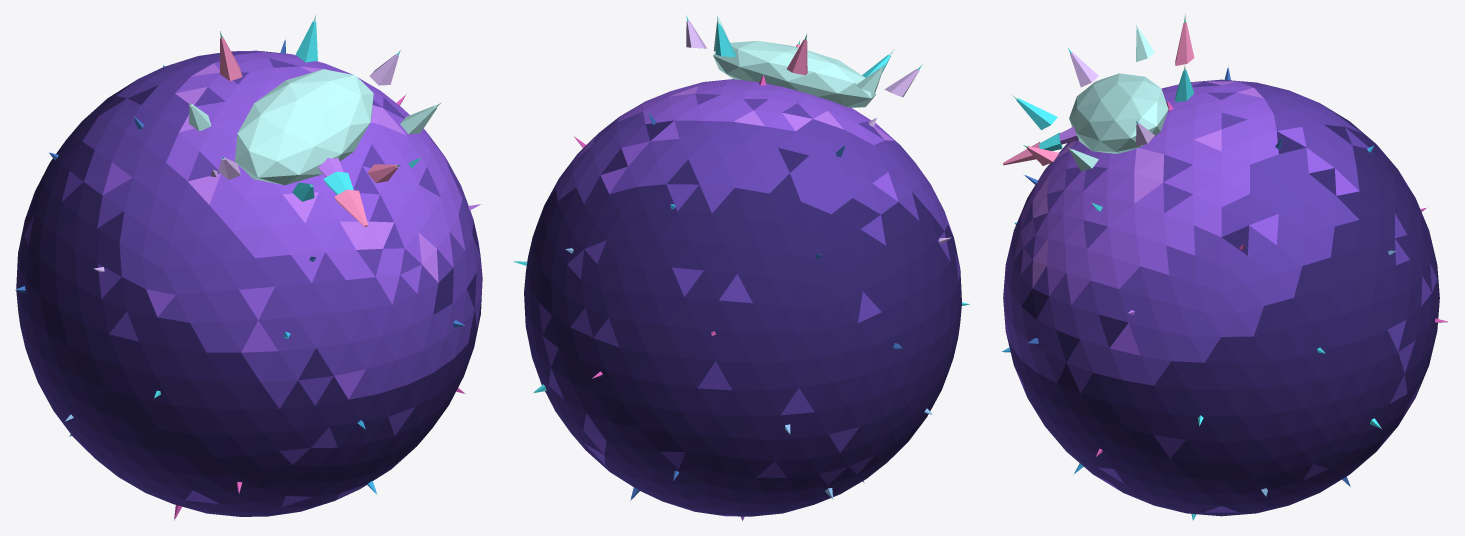
File: Crystal_04.fbx
The picture shows the model from 3 angles, left to right: view 1: azimuth 30°, elevation 25°; view 2: azimuth 150°, elevation 25°; view 3: azimuth 270°, elevation 25°; orthographic projection. The views are drawn at different scales.
Visible parts, largest first — view 1: Crystal_04; view 2: Crystal_04; view 3: Crystal_04.
Part boxes in pixels (x1=…): Crystal_04: x1=15, y1=14, x2=482, y2=520; Crystal_04: x1=512, y1=15, x2=969, y2=520; Crystal_04: x1=1001, y1=14, x2=1448, y2=520.
Bounding box in the file's own units: 6.18 × 7 × 6.18.
1 material, 1 textured.
